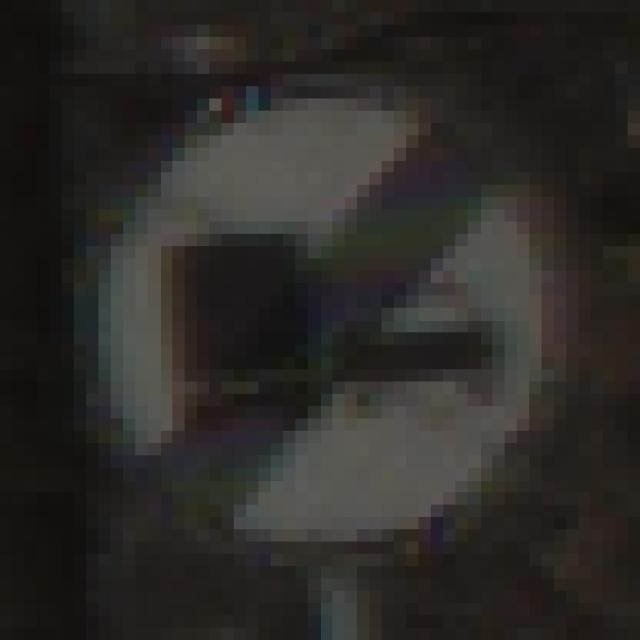Overtaking by trucks is prohibited: (49, 62, 628, 590)
